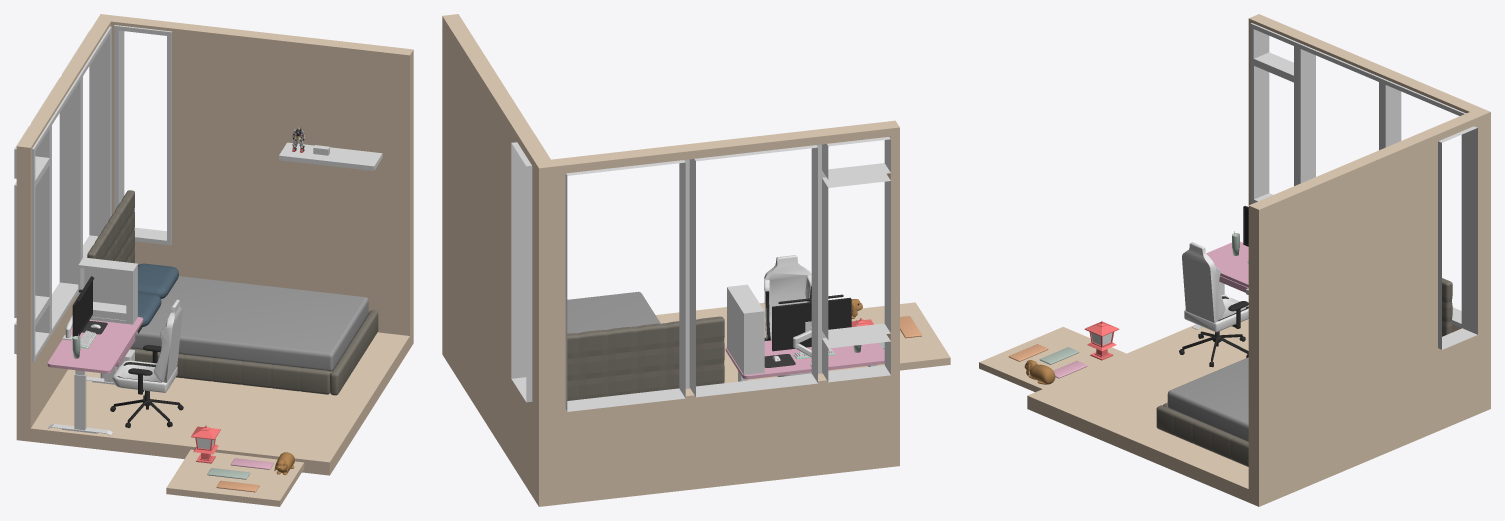
The model's file is Room.glb.
3 views of the same model, side by side, from view 1: azimuth 30°, elevation 25°; view 2: azimuth 150°, elevation 25°; view 3: azimuth 270°, elevation 25° (orthographic). The views are drawn at different scales.
Visible parts, largest first — view 1: Room, Window Frame, Mattress, Extra Segment, Bedframe Sides, Window Side Frame, PC, Desk Top, Bedframe Headboard, Shelf, Bedframe Bottom, Chair Backrest (+7 smaller); view 2: Room, Window Frame, Bedframe Headboard, Window Side Frame, PC, Mattress, Extra Segment, Monitor, Desk Top, Chair Backrest; view 3: Room, Window Frame, Window Side Frame, Mattress, Extra Segment, Chair Backrest, Bedframe Bottom, Desk Top, Chair Seat, Lantern, Bedframe Headboard.
Boxes of the visible parts, x1,y1,x2,y2 form: Room: (16, 14, 413, 475); Window Frame: (14, 26, 111, 362); Mattress: (130, 276, 368, 371); Extra Segment: (166, 449, 304, 506); Bedframe Sides: (130, 310, 369, 394); Window Side Frame: (114, 25, 171, 245); PC: (78, 257, 137, 324); Desk Top: (47, 317, 143, 373); Bedframe Headboard: (87, 190, 134, 263); Shelf: (279, 142, 382, 170); Bedframe Bottom: (330, 310, 378, 395); Chair Backrest: (154, 299, 182, 382); Room: (442, 14, 899, 506); Window Frame: (565, 137, 890, 411); Bedframe Headboard: (567, 316, 724, 400); Window Side Frame: (511, 133, 550, 402); PC: (727, 284, 764, 374); Mattress: (567, 291, 660, 333); Extra Segment: (848, 302, 950, 370); Monitor: (772, 297, 851, 351); Desk Top: (725, 340, 884, 379); Chair Backrest: (764, 255, 811, 340); Room: (1027, 14, 1490, 506); Window Frame: (1250, 23, 1465, 328); Window Side Frame: (1438, 126, 1477, 349); Mattress: (1167, 357, 1248, 441); Extra Segment: (979, 327, 1126, 392); Chair Backrest: (1182, 242, 1225, 322); Bedframe Bottom: (1156, 405, 1248, 466); Desk Top: (1206, 241, 1248, 287); Chair Seat: (1184, 294, 1248, 332); Lantern: (1084, 321, 1119, 360); Bedframe Headboard: (1442, 278, 1452, 336).
Bounding box in the file's own units: 6.97 × 4.93 × 7.7.
28 materials, 1 textured.
